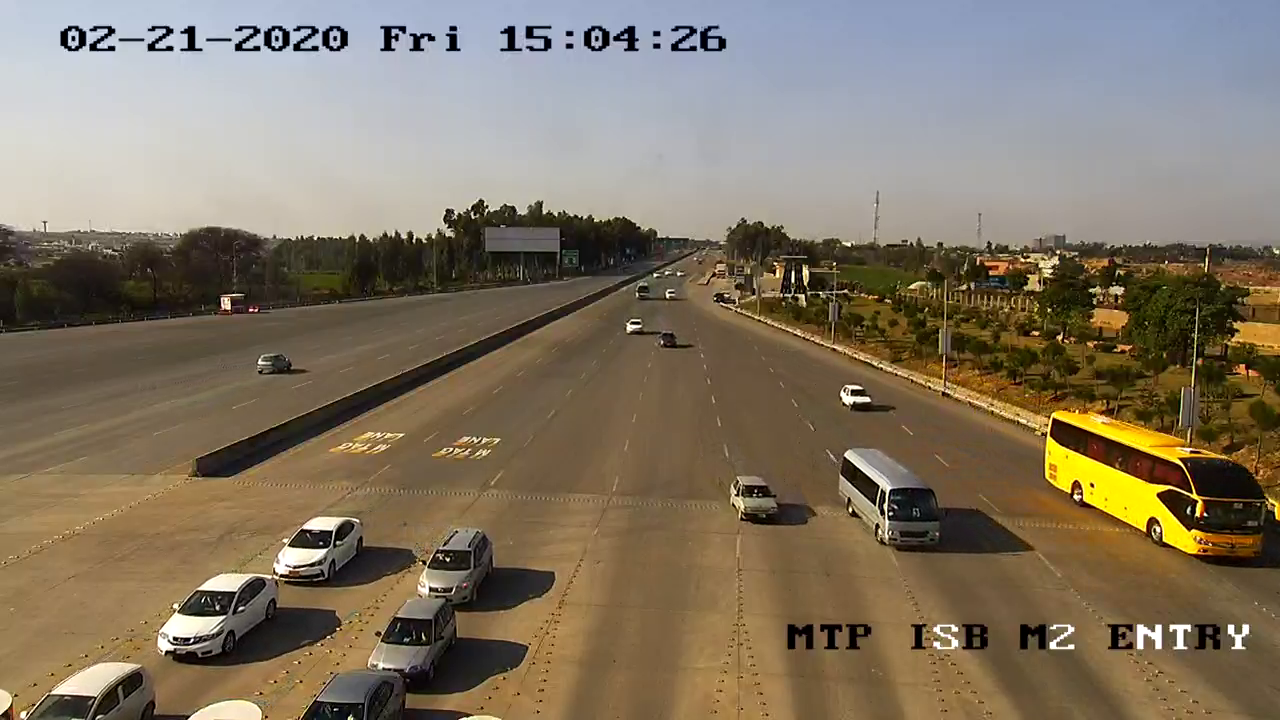f1: (146, 561, 283, 671), (354, 589, 468, 691), (264, 508, 371, 588), (411, 520, 503, 608), (722, 468, 784, 531)
f3: (832, 433, 948, 560)
f4: (1020, 398, 1272, 568)
